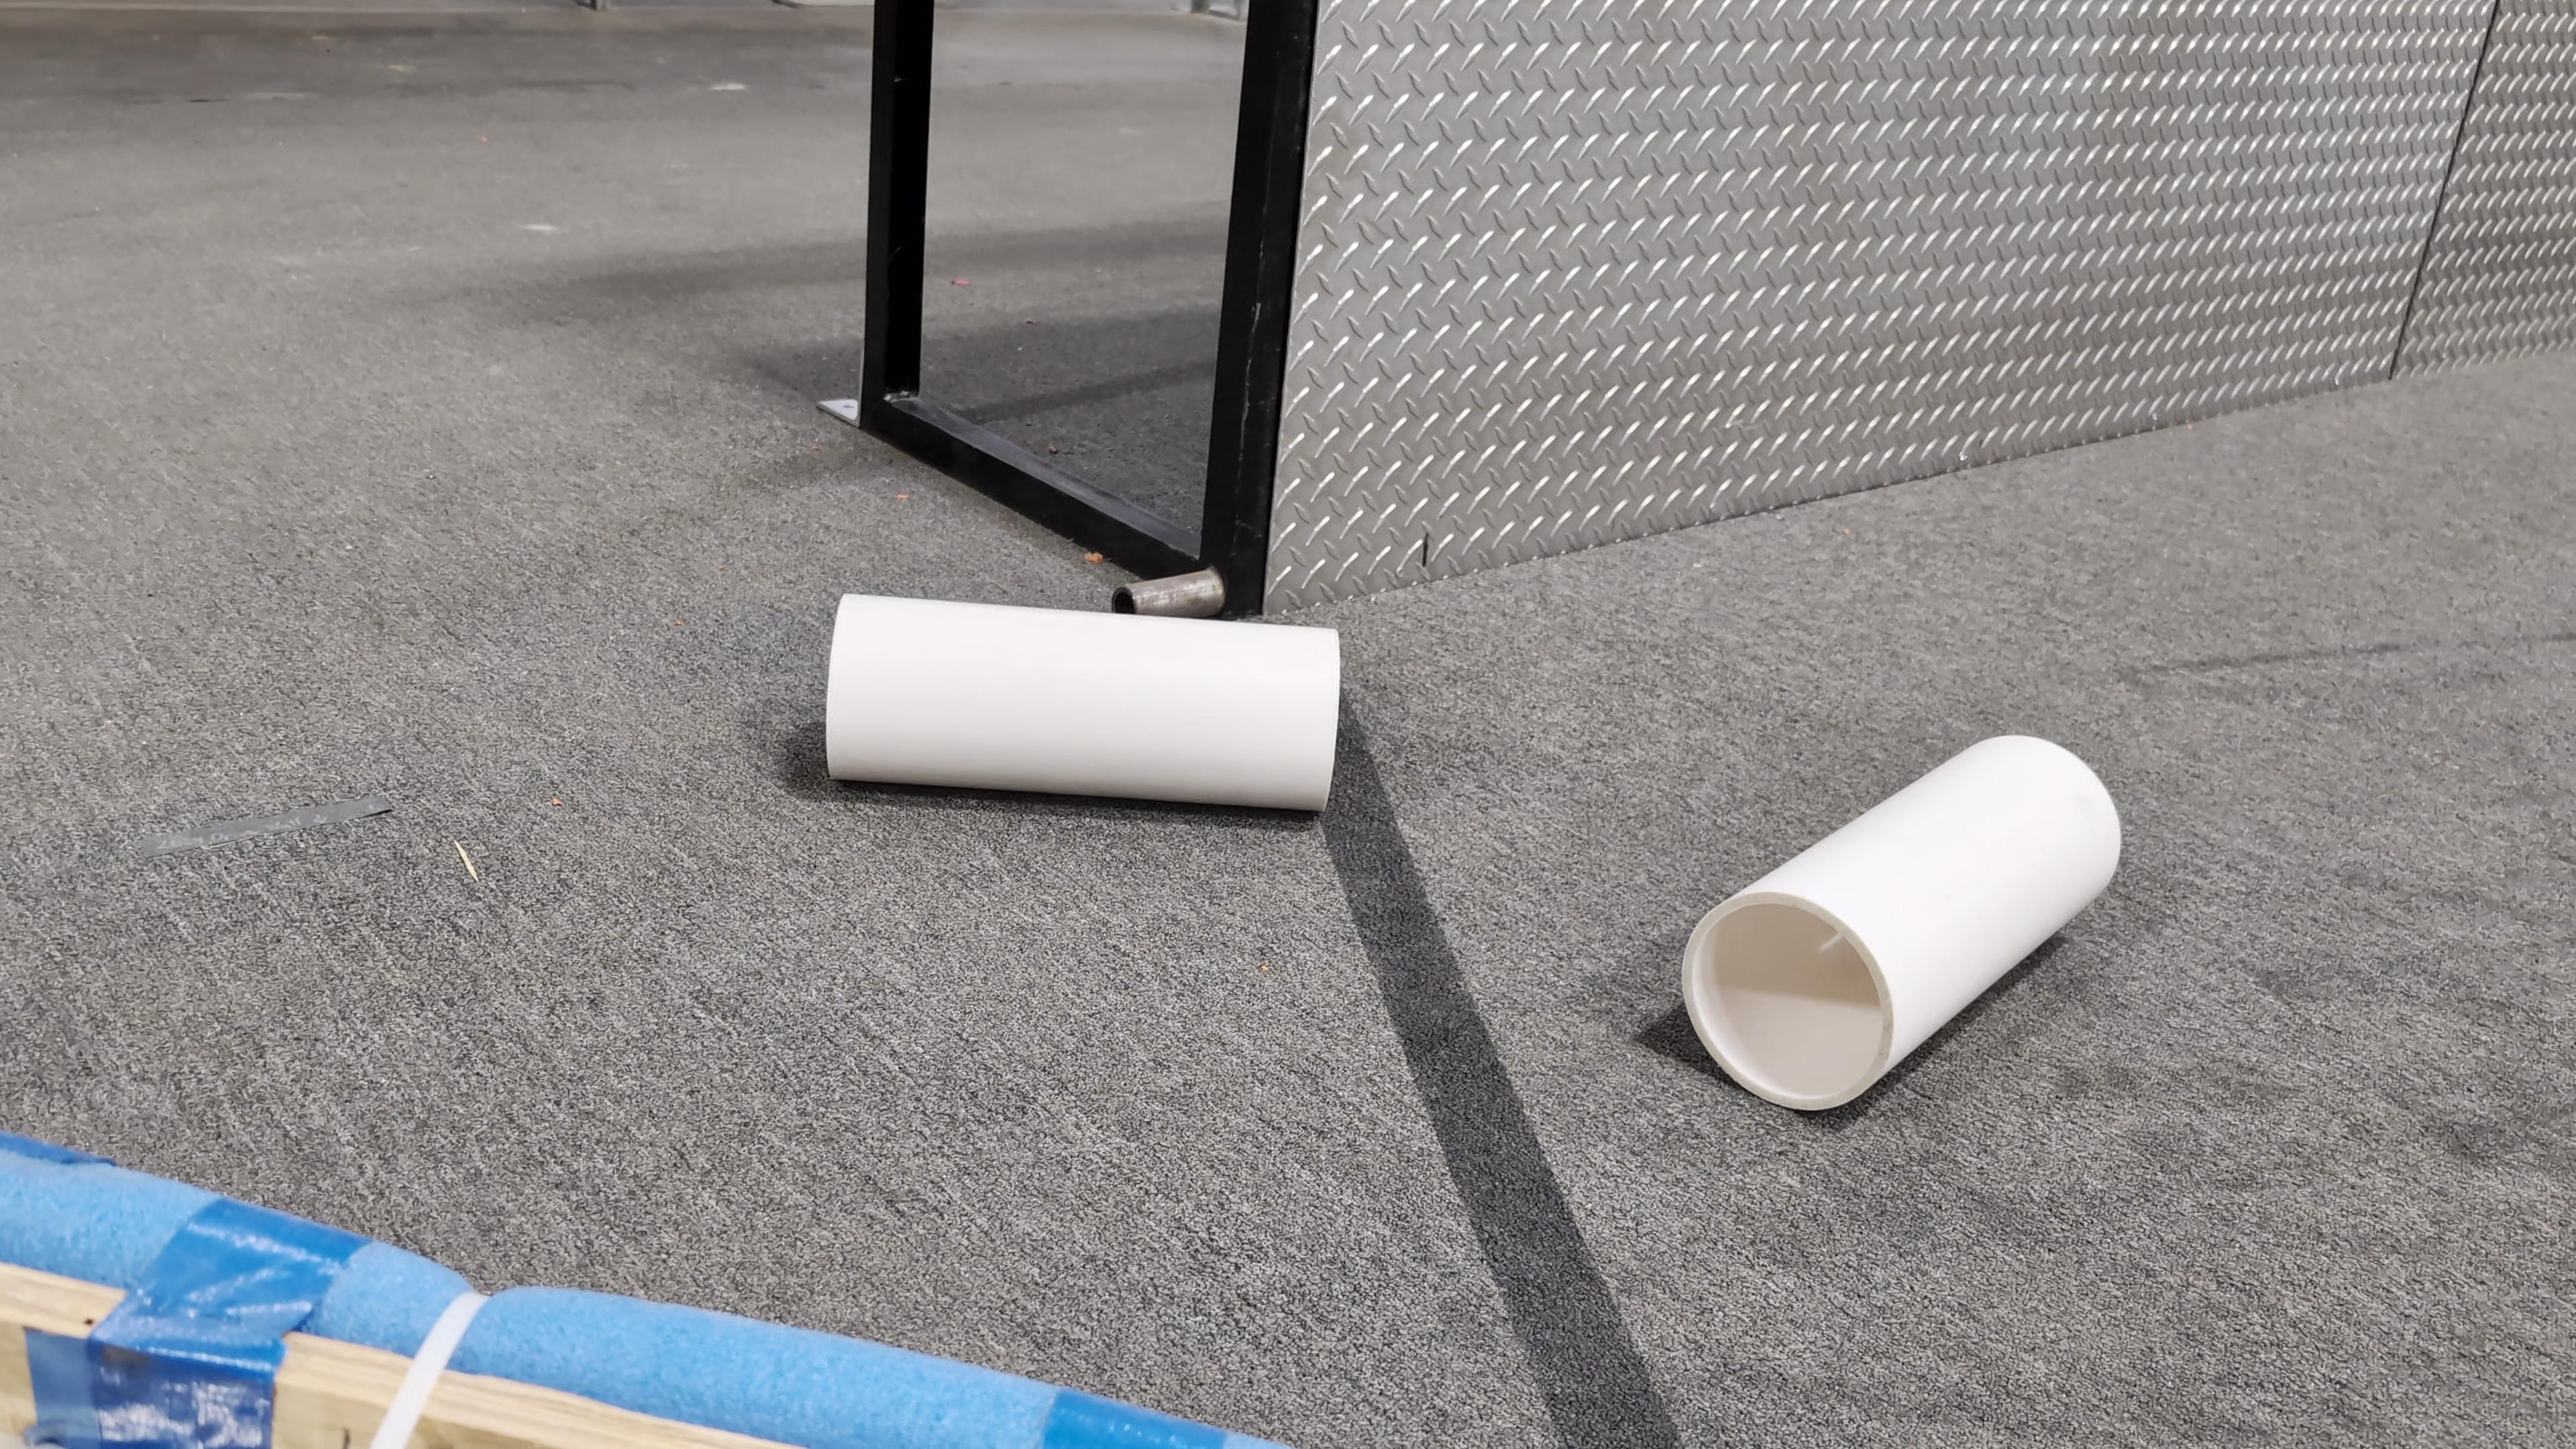coral: (1679, 731, 2125, 1108), (821, 587, 1345, 812)
